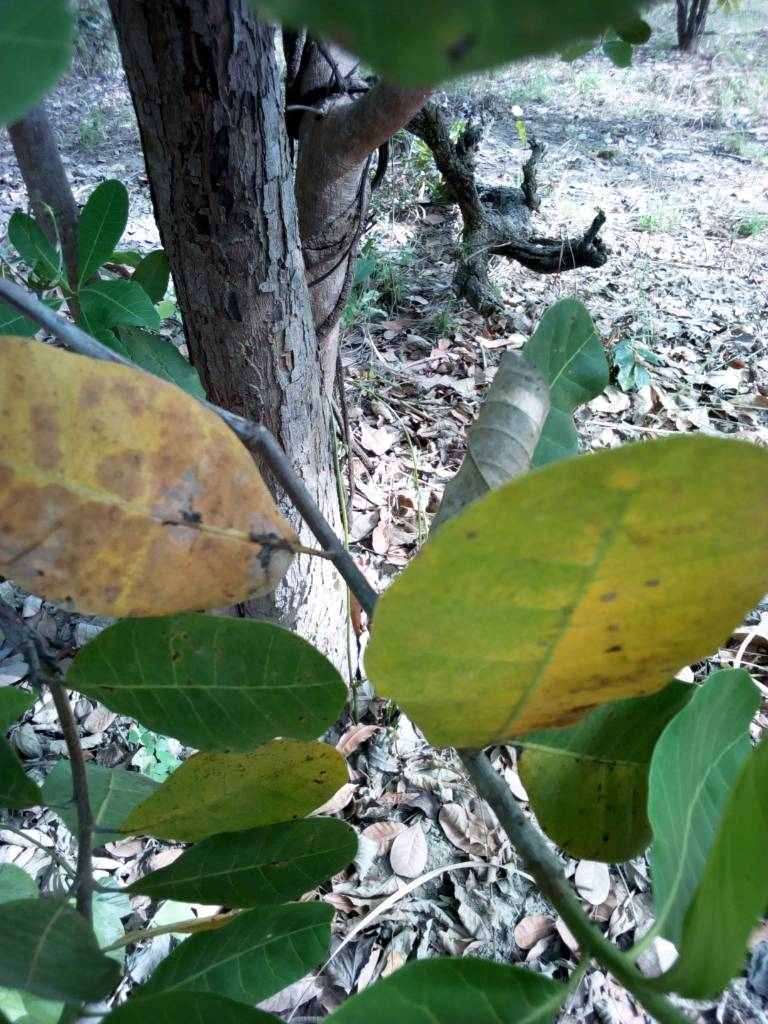Bactériose: (1, 353, 282, 614)
